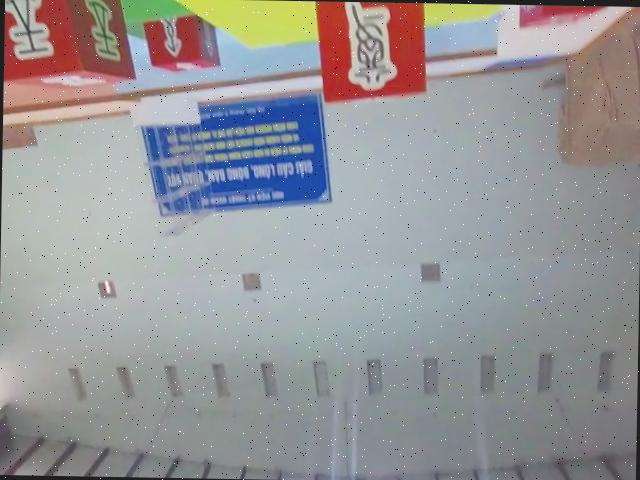R1: (519, 3, 610, 34)
R2 Fake: (311, 0, 429, 103)
R2 Real: (2, 0, 136, 88), (139, 9, 223, 73)
